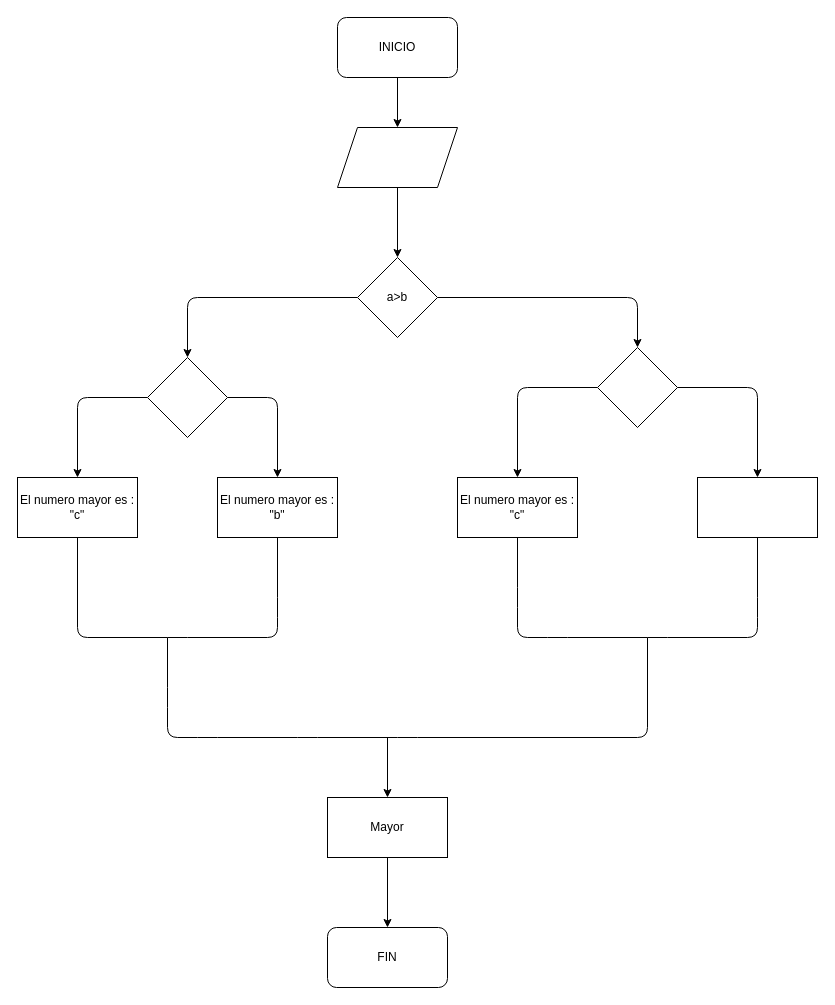
The diagram is 835 pixels wide and 1005 high, and some of its shapes have lost their labels. The shapes that lost their labels are listed below. From the top down, each one's centre as x and y in pixels, then its label:
point (397, 157): a , b , c
point (187, 397): b>c
point (637, 387): a>c
point (757, 507): El numero mayor es : "a"
